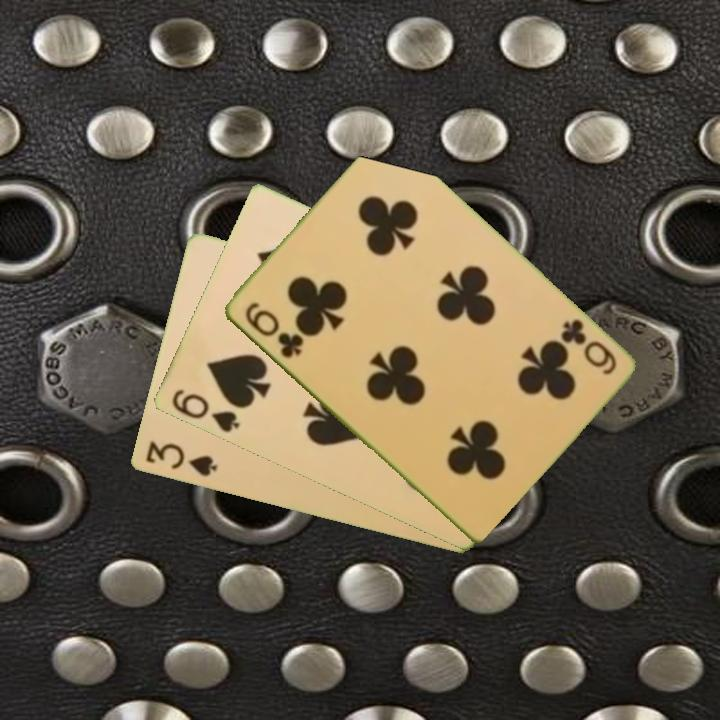3s: (141, 437, 220, 480)
6c: (240, 298, 306, 362), (556, 315, 619, 378)
6s: (167, 385, 242, 436)
